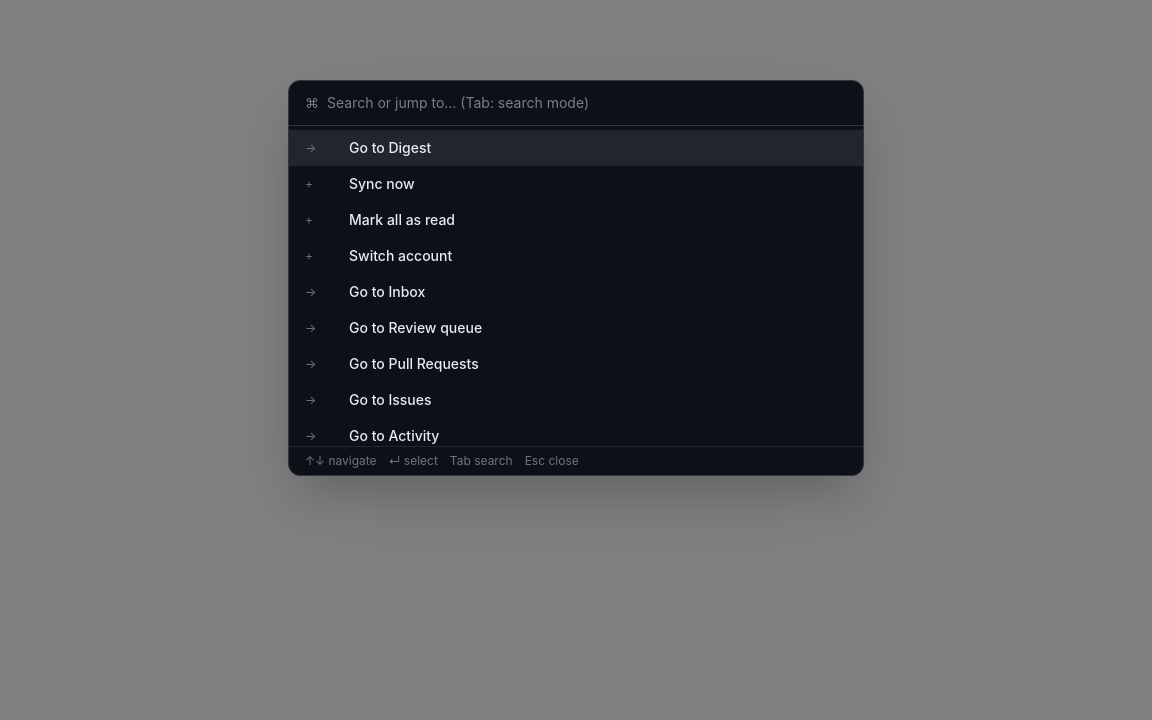
Test case: CommandPalette › runs GitHub search for is: queries and shows results
Step 1. Type "is:pr review-requested:@me" into the field with placeholder "Search or jump to… (Tab: search mode)" → (587, 103), box [327,81,847,125]
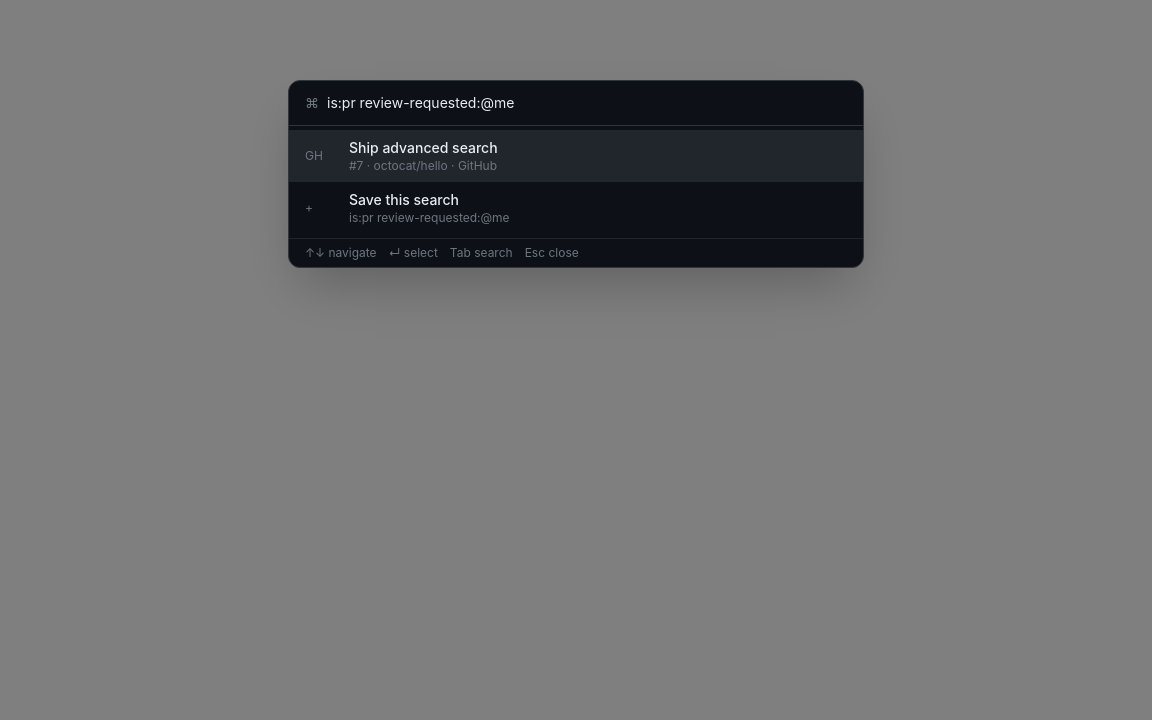
Expected: the text "Ship advanced search" is shown, [349,139,498,156]
Expected: the text "Save this search" is shown, [349,191,459,208]
